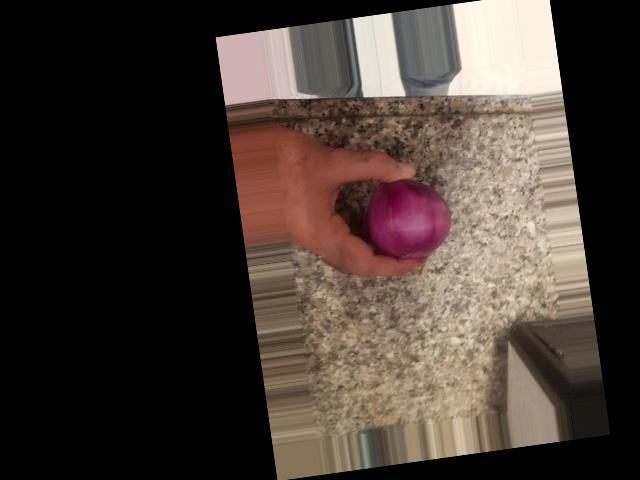onion: (364, 170, 452, 267)
